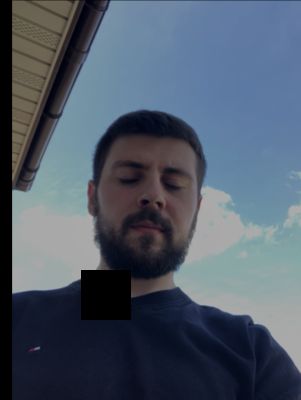without_mask: (97, 151, 195, 279)
